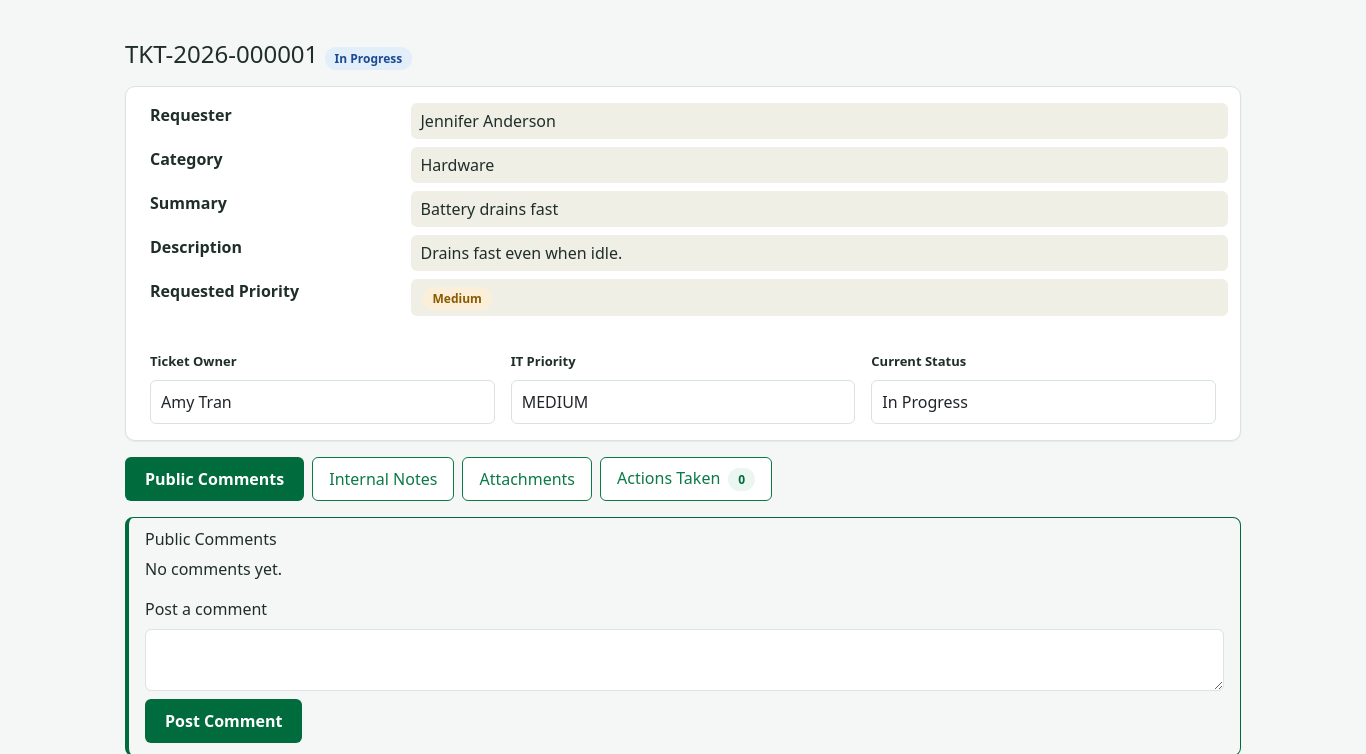
Test: Actions Taken on Staff Ticket Detail (UI-01) › creates an action with an Idempotency-Key, keeps the typed data on a server error, and reuses the same key on retry
The width and height of the screenshot is (1366, 754).
Expected: the heading "TKT-2026-000001 In Progress" is shown, x1=125 y1=37 x2=412 y2=70
Click the tab "Actions Taken 0" at (686, 479), box x1=600 y1=457 x2=772 y2=501
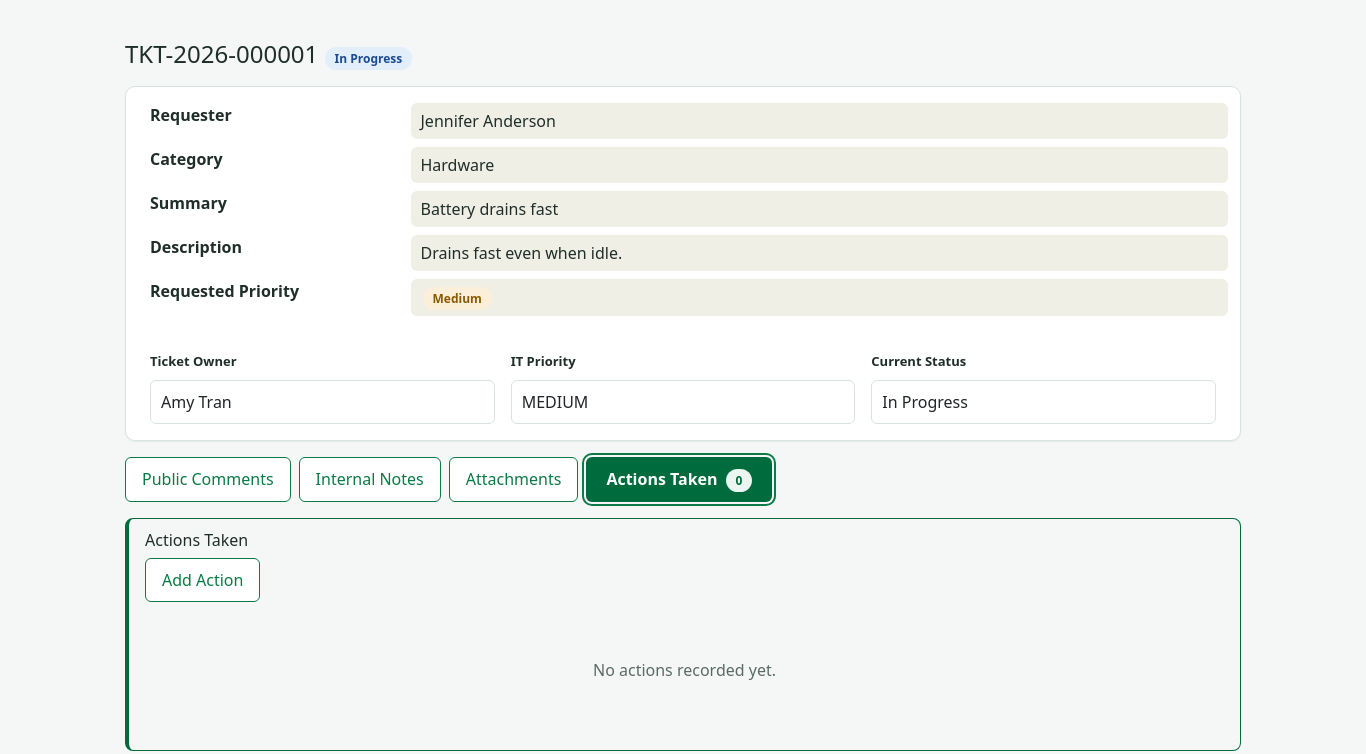
Click the button "Add Action" at (203, 580), box x1=145 y1=558 x2=260 y2=602
(page scrolled)
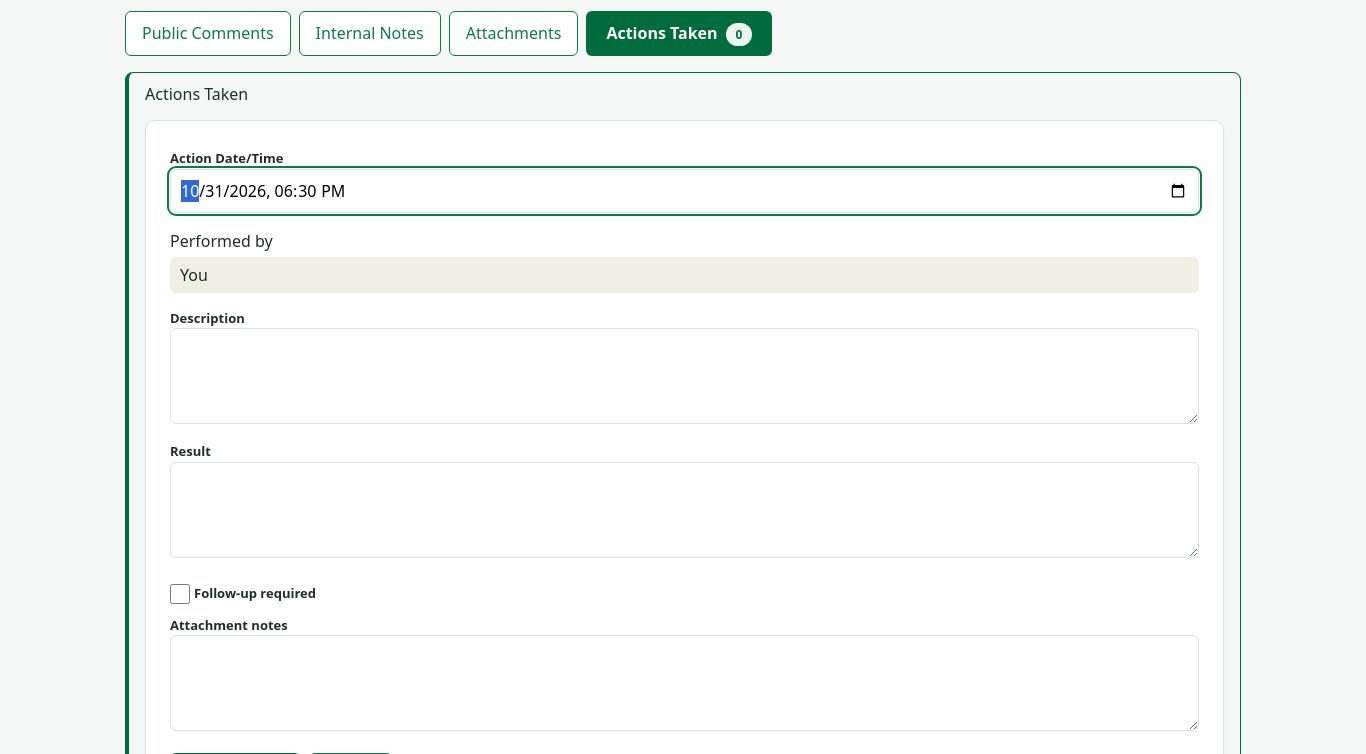
Type "Reset the OS" into the text box labelled "Description" at (684, 376), box x1=170 y1=328 x2=1199 y2=424
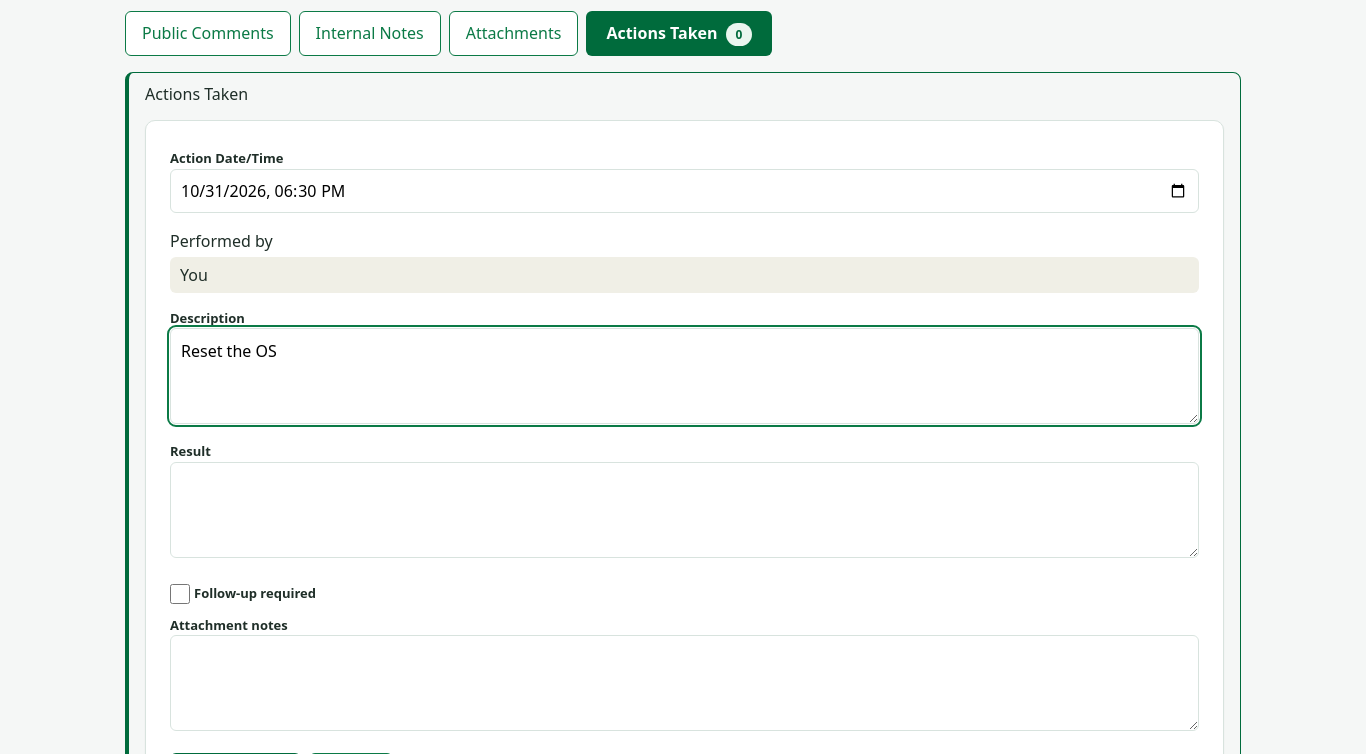
Type "Boots clean" into the text box labelled "Result" at (684, 510), box x1=170 y1=462 x2=1199 y2=558
(page scrolled)
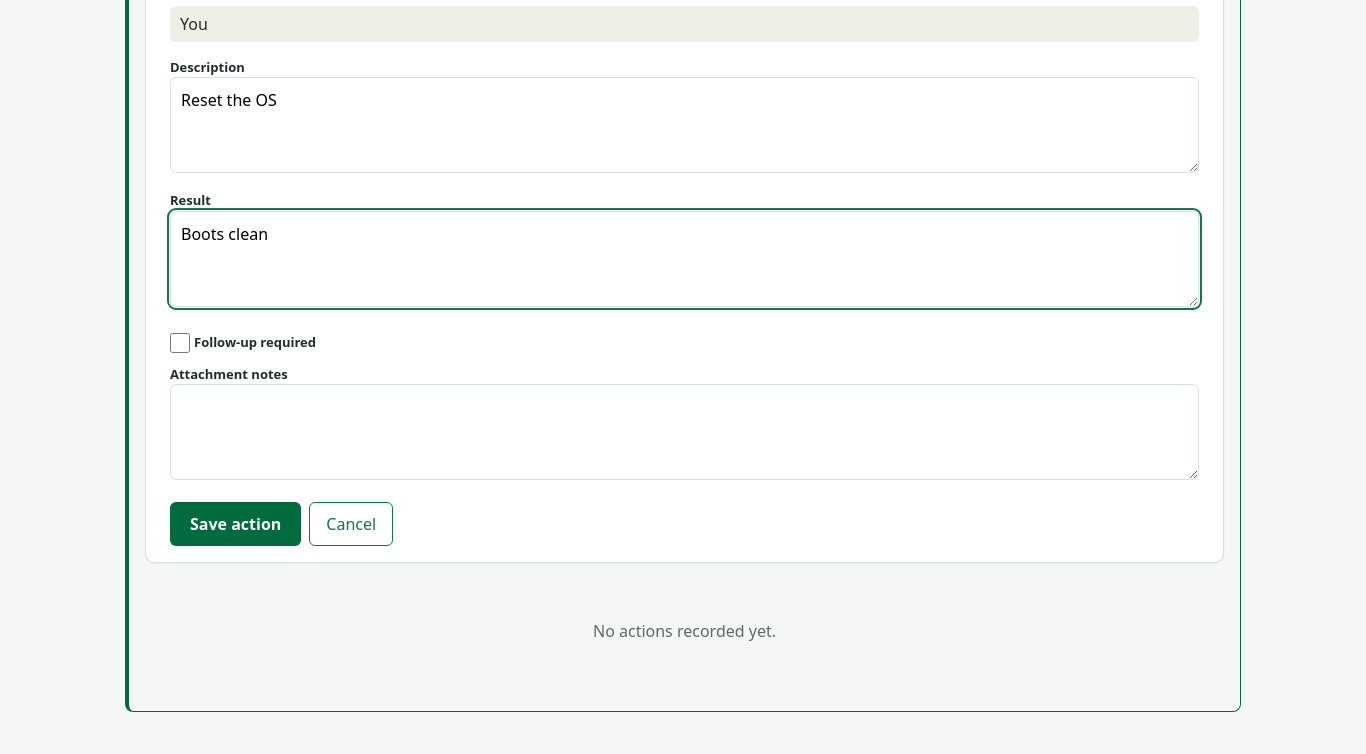
Click the button "Save action" at (236, 524), box x1=170 y1=502 x2=301 y2=546
(page scrolled)
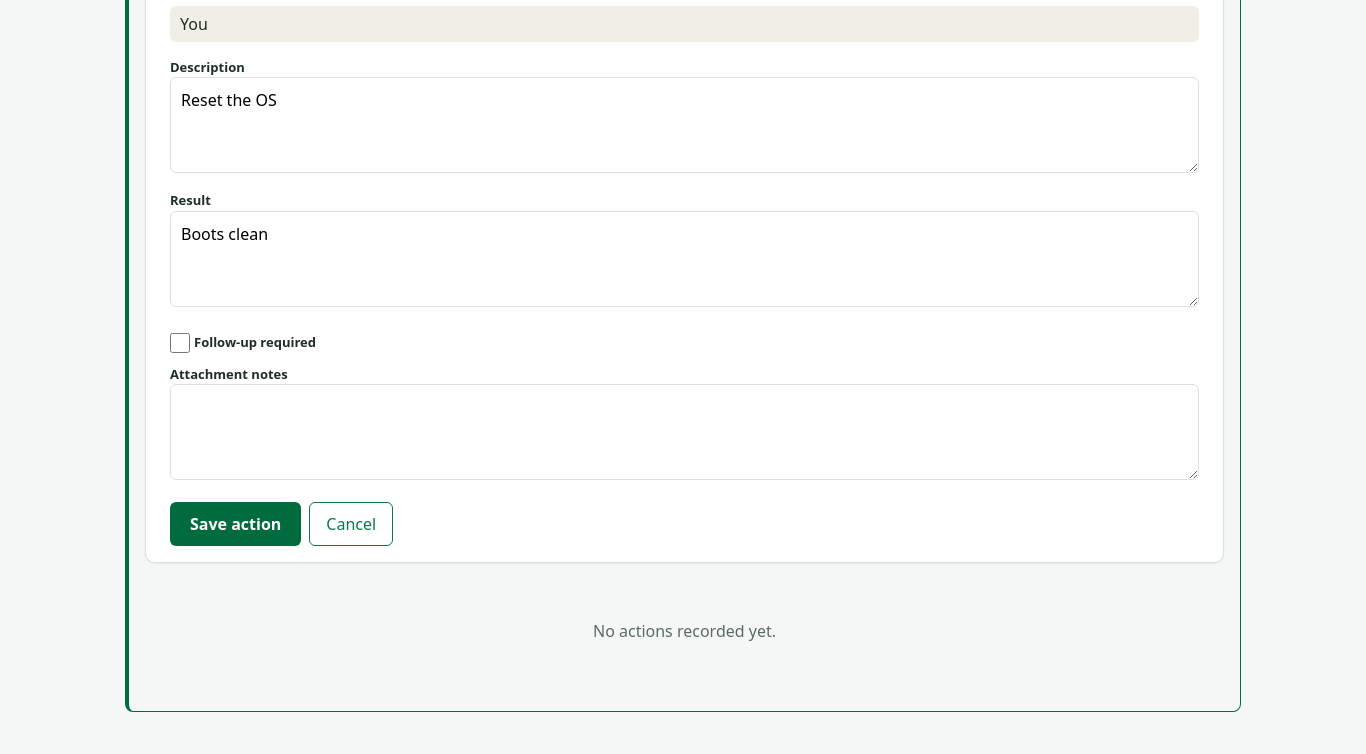
Result: the button "Save action" is enabled
Click the button "Save action" at (236, 524), box x1=170 y1=502 x2=301 y2=546
(page scrolled)
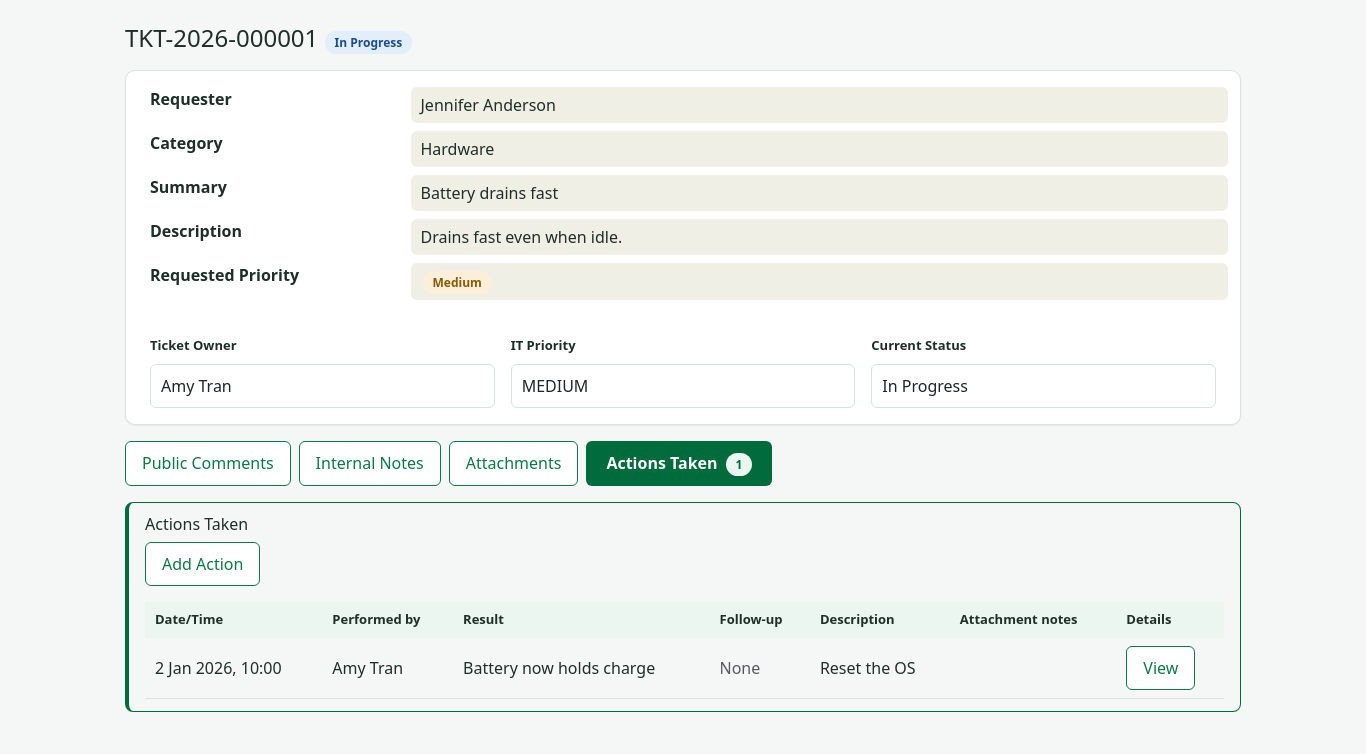
Result: the text "Reset the OS" is shown at x1=810 y1=638 x2=950 y2=698
